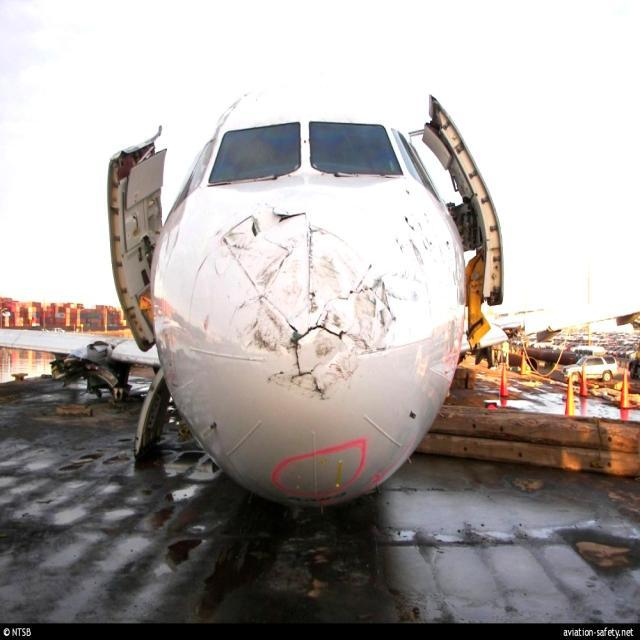crack: (219, 206, 402, 416)
